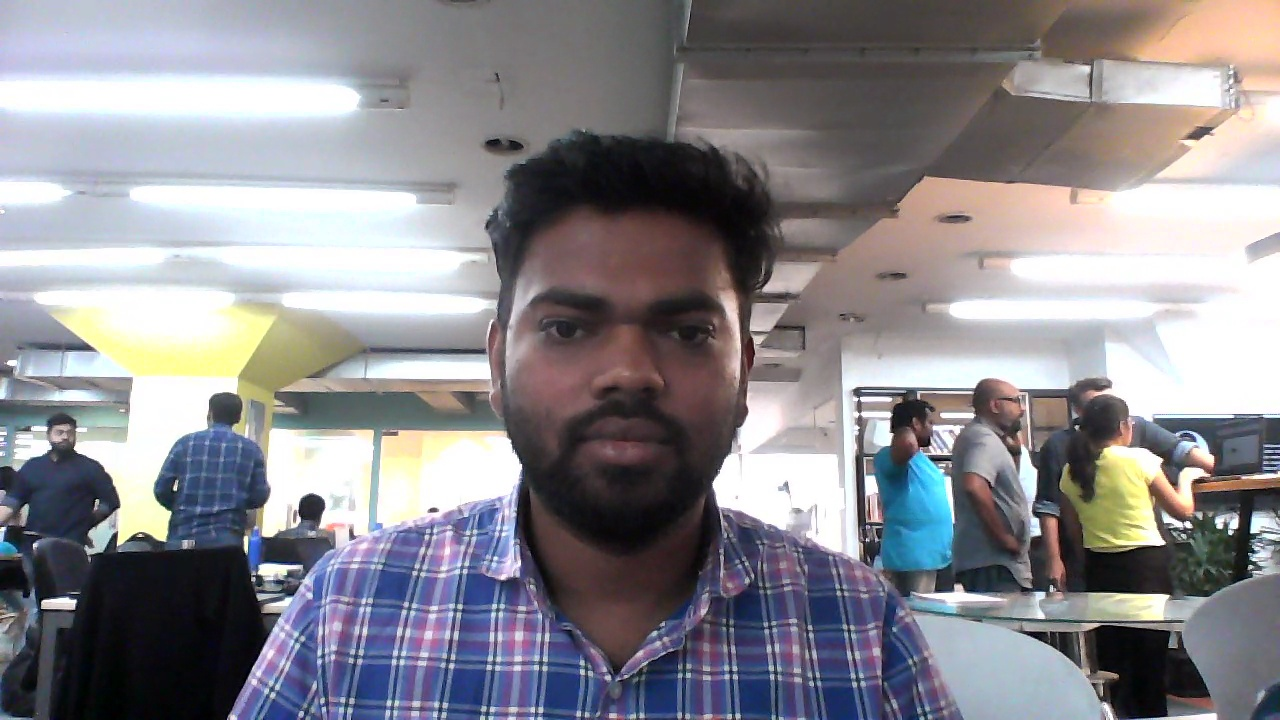open: (483, 136, 777, 537)
